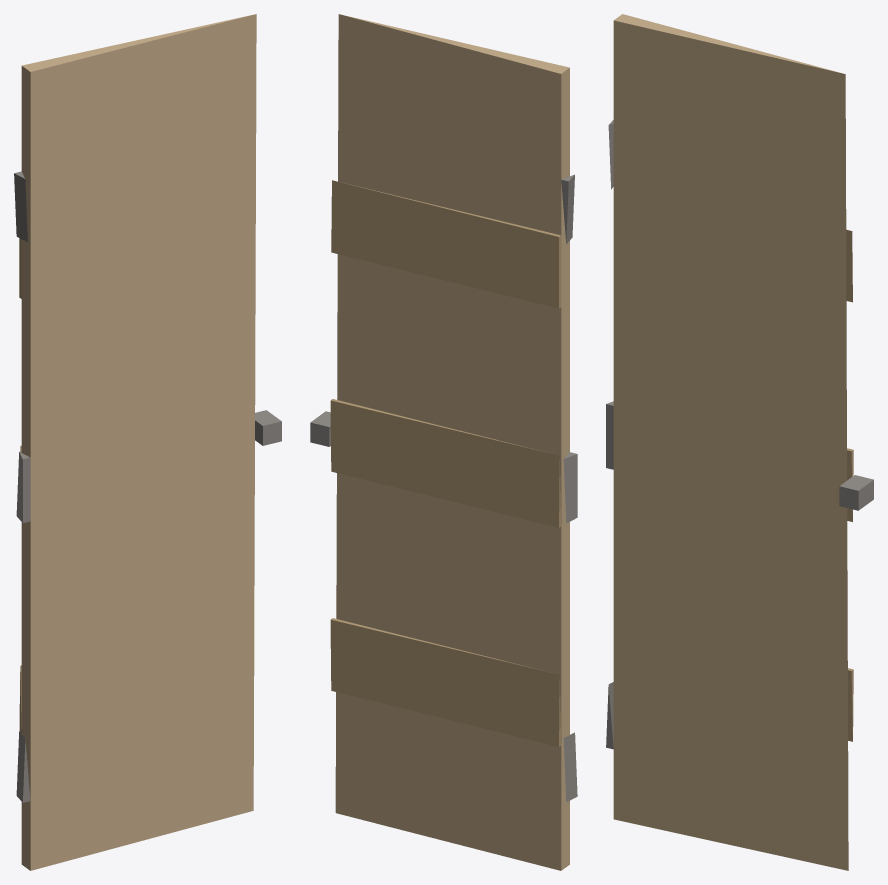
File: 18-Casas_puerta_articulada.glb
3 views of the same model, side by side, from view 1: azimuth 30°, elevation 25°; view 2: azimuth 150°, elevation 25°; view 3: azimuth 330°, elevation 25° (orthographic).
Parts seen in each view (by area): view 1: SM_Puerta_M_Puerta_Madera, SM_Puerta_M_Puerta_Hierro; view 2: SM_Puerta_M_Puerta_Madera, SM_Puerta_M_Puerta_Tablero, SM_Puerta_M_Puerta_Hierro; view 3: SM_Puerta_M_Puerta_Madera, SM_Puerta_M_Puerta_Hierro, SM_Puerta_M_Puerta_Tablero.
Boxes of the visible parts, x1,y1,x2,y2 form: SM_Puerta_M_Puerta_Madera: [21, 14, 256, 870]; SM_Puerta_M_Puerta_Hierro: [14, 171, 281, 802]; SM_Puerta_M_Puerta_Madera: [335, 14, 569, 870]; SM_Puerta_M_Puerta_Tablero: [330, 180, 561, 746]; SM_Puerta_M_Puerta_Hierro: [310, 174, 577, 802]; SM_Puerta_M_Puerta_Madera: [613, 14, 848, 870]; SM_Puerta_M_Puerta_Hierro: [606, 120, 873, 749]; SM_Puerta_M_Puerta_Tablero: [846, 229, 853, 741].
Size of the model in its own units: 0.67 by 2 by 0.07.
